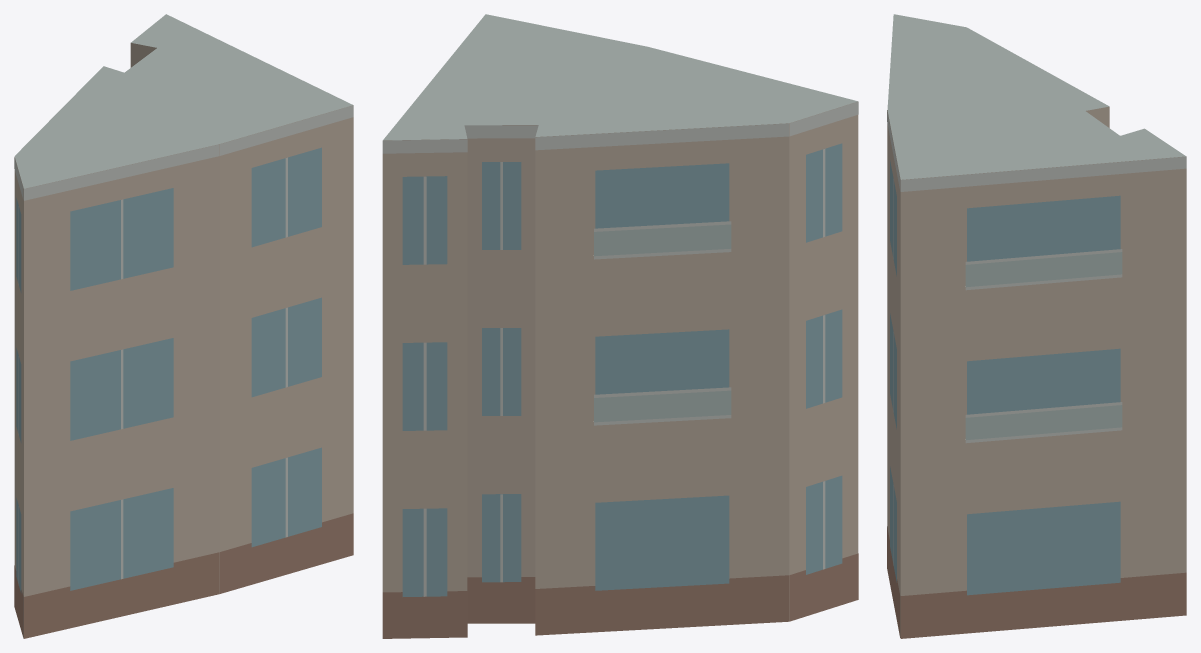
File: survey-upis-32897295.glb
3 renders of one model, left to right at view 1: azimuth 30°, elevation 25°; view 2: azimuth 150°, elevation 25°; view 3: azimuth 270°, elevation 25°, orthographic. The views are drawn at different scales.
Visible parts, largest first — view 1: survey-upis-32897295.tmp; view 2: survey-upis-32897295.tmp; view 3: survey-upis-32897295.tmp.
Part boxes in pixels (x1=…): survey-upis-32897295.tmp: x1=14, y1=14, x2=353, y2=638; survey-upis-32897295.tmp: x1=382, y1=14, x2=858, y2=638; survey-upis-32897295.tmp: x1=887, y1=14, x2=1186, y2=638.
Size of the model in its own units: 7.1 by 9.15 by 5.41.
